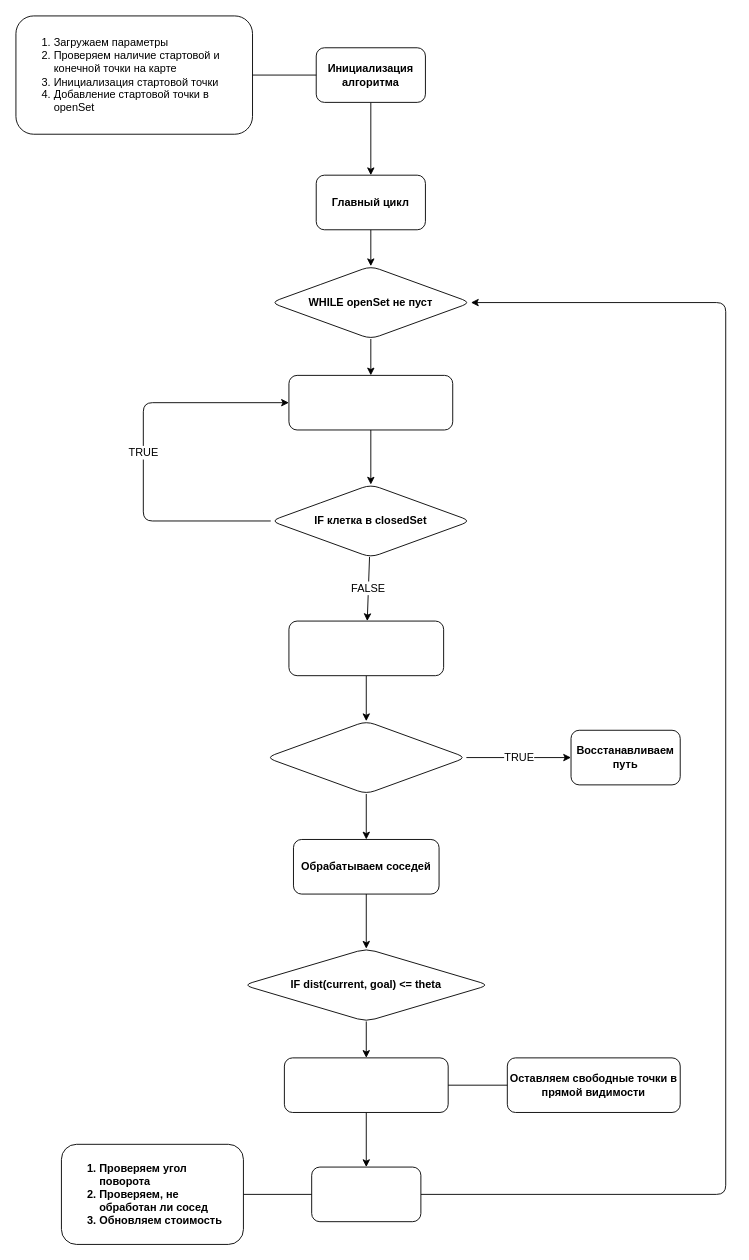
Some shapes in this 749 by 1260 pixel diagram are drawn without their labels. The shapes that lost their labels are listed below. From the top down, each one's centre as x and y in pixels, then its label:
At point (370, 402): "Извлекаем клетку с наименьшим f".
At point (366, 648): "Добавляем клетку в closedSet".
At point (365, 757): "IF достигли цели".
At point (365, 1084): "Получаем точки окружности радиусом theta".
At point (366, 1194): "EXPAND".
